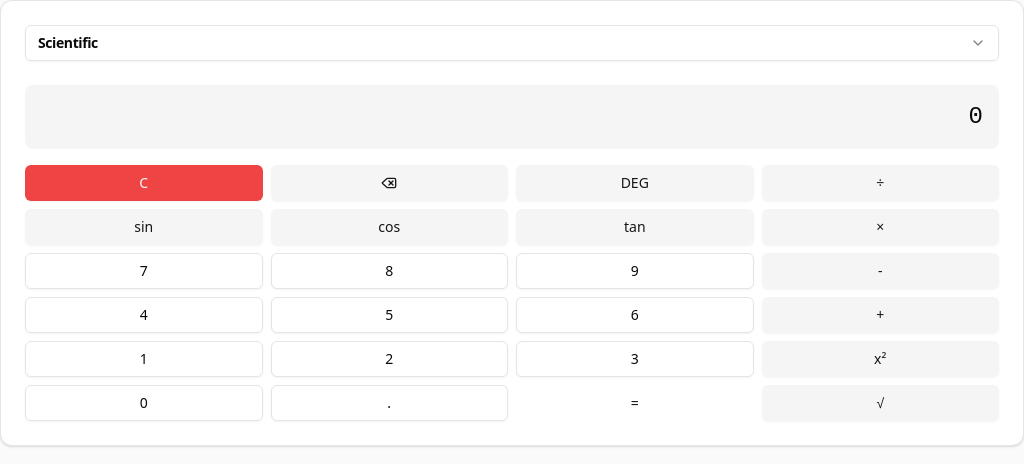
Scenario: Calculator › inputs numbers
Expected: the button "C" is shown, [25,165,262,201]
Click the button "1": (144, 359) [25,341,262,377]
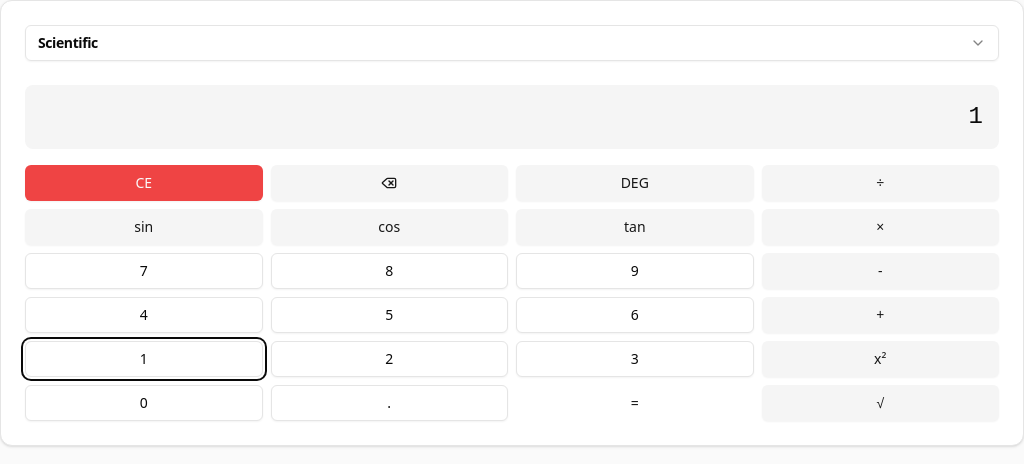
Click the button "2": (389, 359) [270,341,508,377]
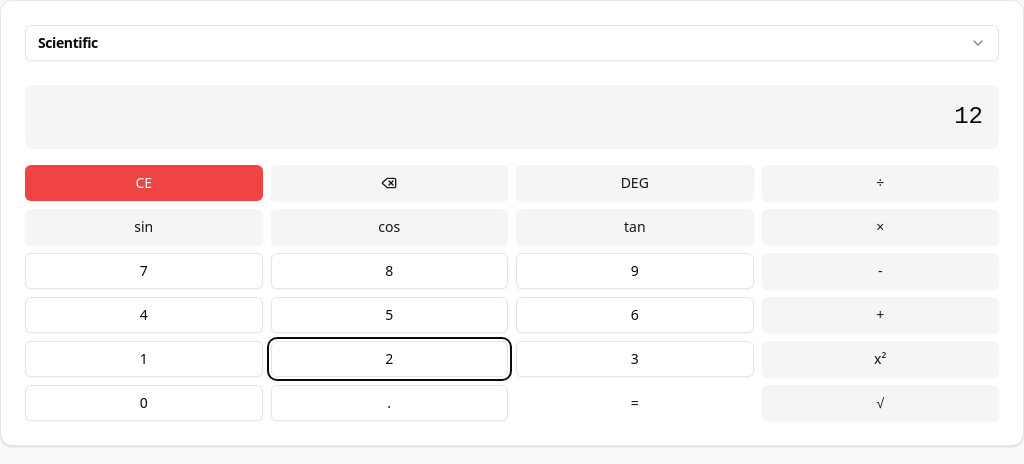
Now the button "CE" is shown
Now the text with test id "calculator-display" reads "12", box [954,103,983,130]
Click the button "CE": (144, 183) [25,165,262,201]
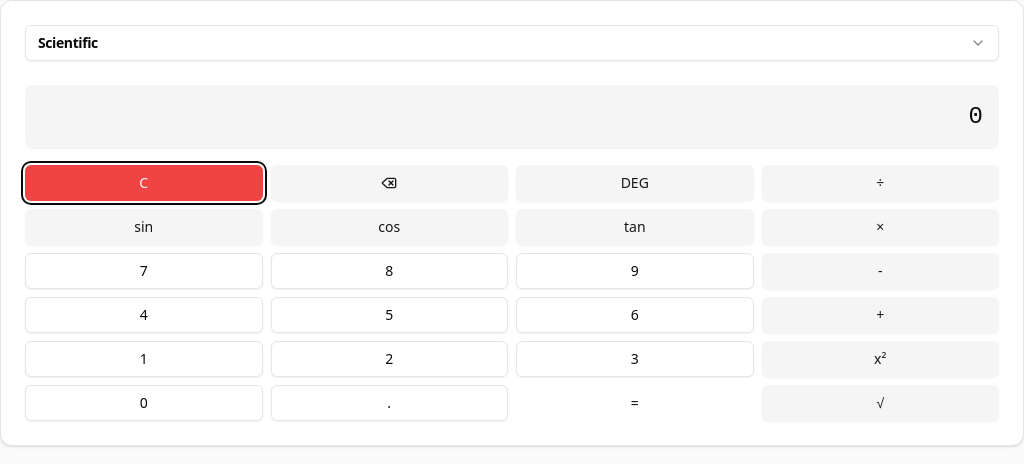
Now the text with test id "calculator-display" reads "0", box [969,103,983,130]
Now the button "C" is shown, box [25,165,262,201]
